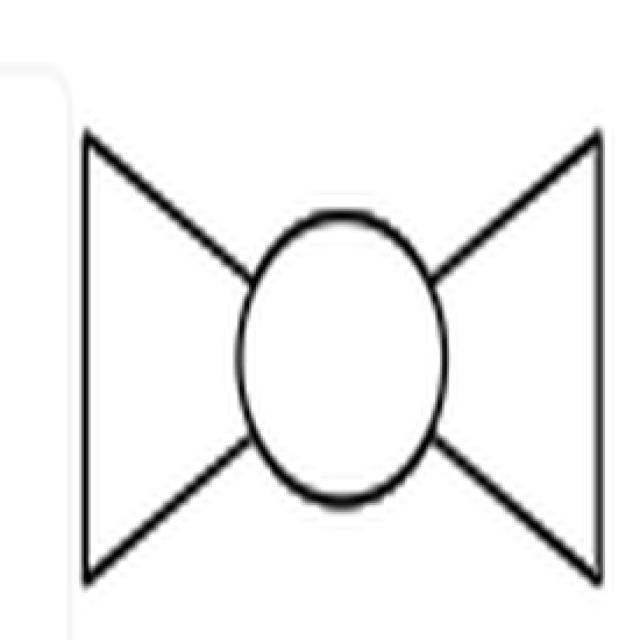ball valve: (84, 133, 600, 582)
